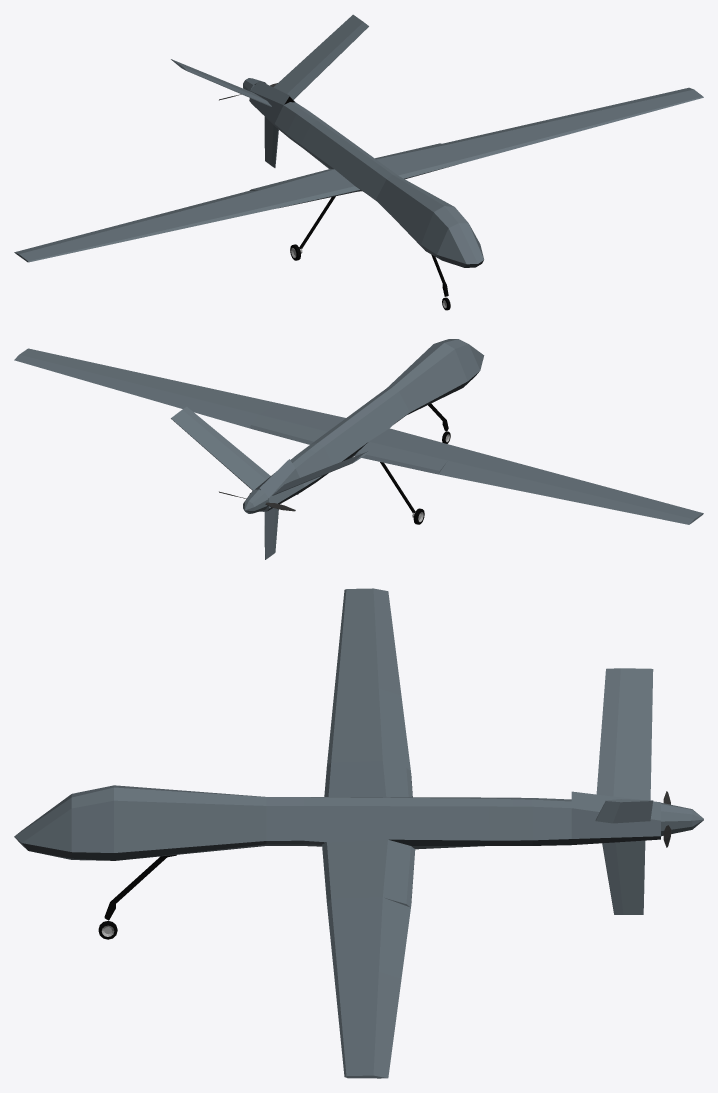
3 views of the same model, one above another, from view 1: azimuth 30°, elevation 25°; view 2: azimuth 150°, elevation 25°; view 3: azimuth 270°, elevation 25° (orthographic). The views are drawn at different scales.
Visible parts, largest first — view 1: Circle.024, Circle.026, Circle.030; view 2: Circle.024, Circle.027, Circle.031, Circle.026, Circle.030, Circle.025, Landing gear_RL.007; view 3: Circle.024, Circle.030, Circle.031, Circle.026, Circle.027, Circle.025, Landing gear_F.003.
Part boxes in pixels (x1,y1,x2,y2): Circle.024: [17, 14, 703, 267]; Circle.026: [14, 216, 157, 254]; Circle.030: [544, 87, 693, 121]; Circle.024: [19, 339, 703, 559]; Circle.027: [438, 460, 550, 495]; Circle.031: [151, 389, 258, 428]; Circle.026: [543, 485, 693, 524]; Circle.030: [14, 355, 158, 399]; Circle.025: [219, 489, 295, 513]; Landing gear_RL.007: [380, 462, 424, 524]; Circle.024: [14, 588, 660, 1078]; Circle.030: [373, 972, 401, 1078]; Circle.031: [379, 897, 410, 978]; Circle.026: [373, 588, 401, 695]; Circle.027: [379, 689, 410, 770]; Circle.025: [661, 791, 703, 847]; Landing gear_F.003: [98, 855, 176, 939].
Bounding box in the file's own units: 1428 × 281 × 855.
